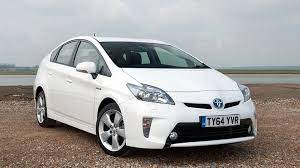Toyota: (34, 34, 258, 150)
